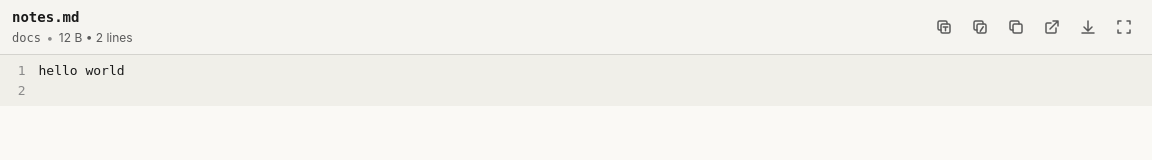
Test: FileViewer › copies through the synchronous fallback in an insecure context
Click the button named "Copy full text": (1016, 27) [1000,11,1032,43]
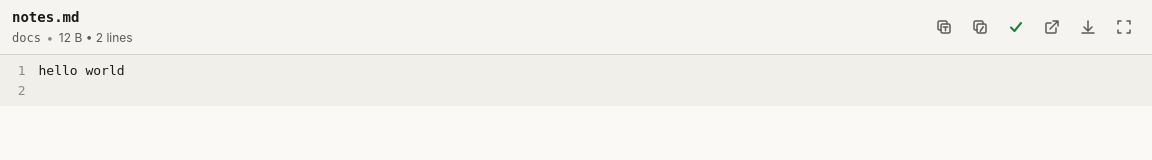
Now the button named "Full text copied!" is shown, box [1000,11,1032,43]
